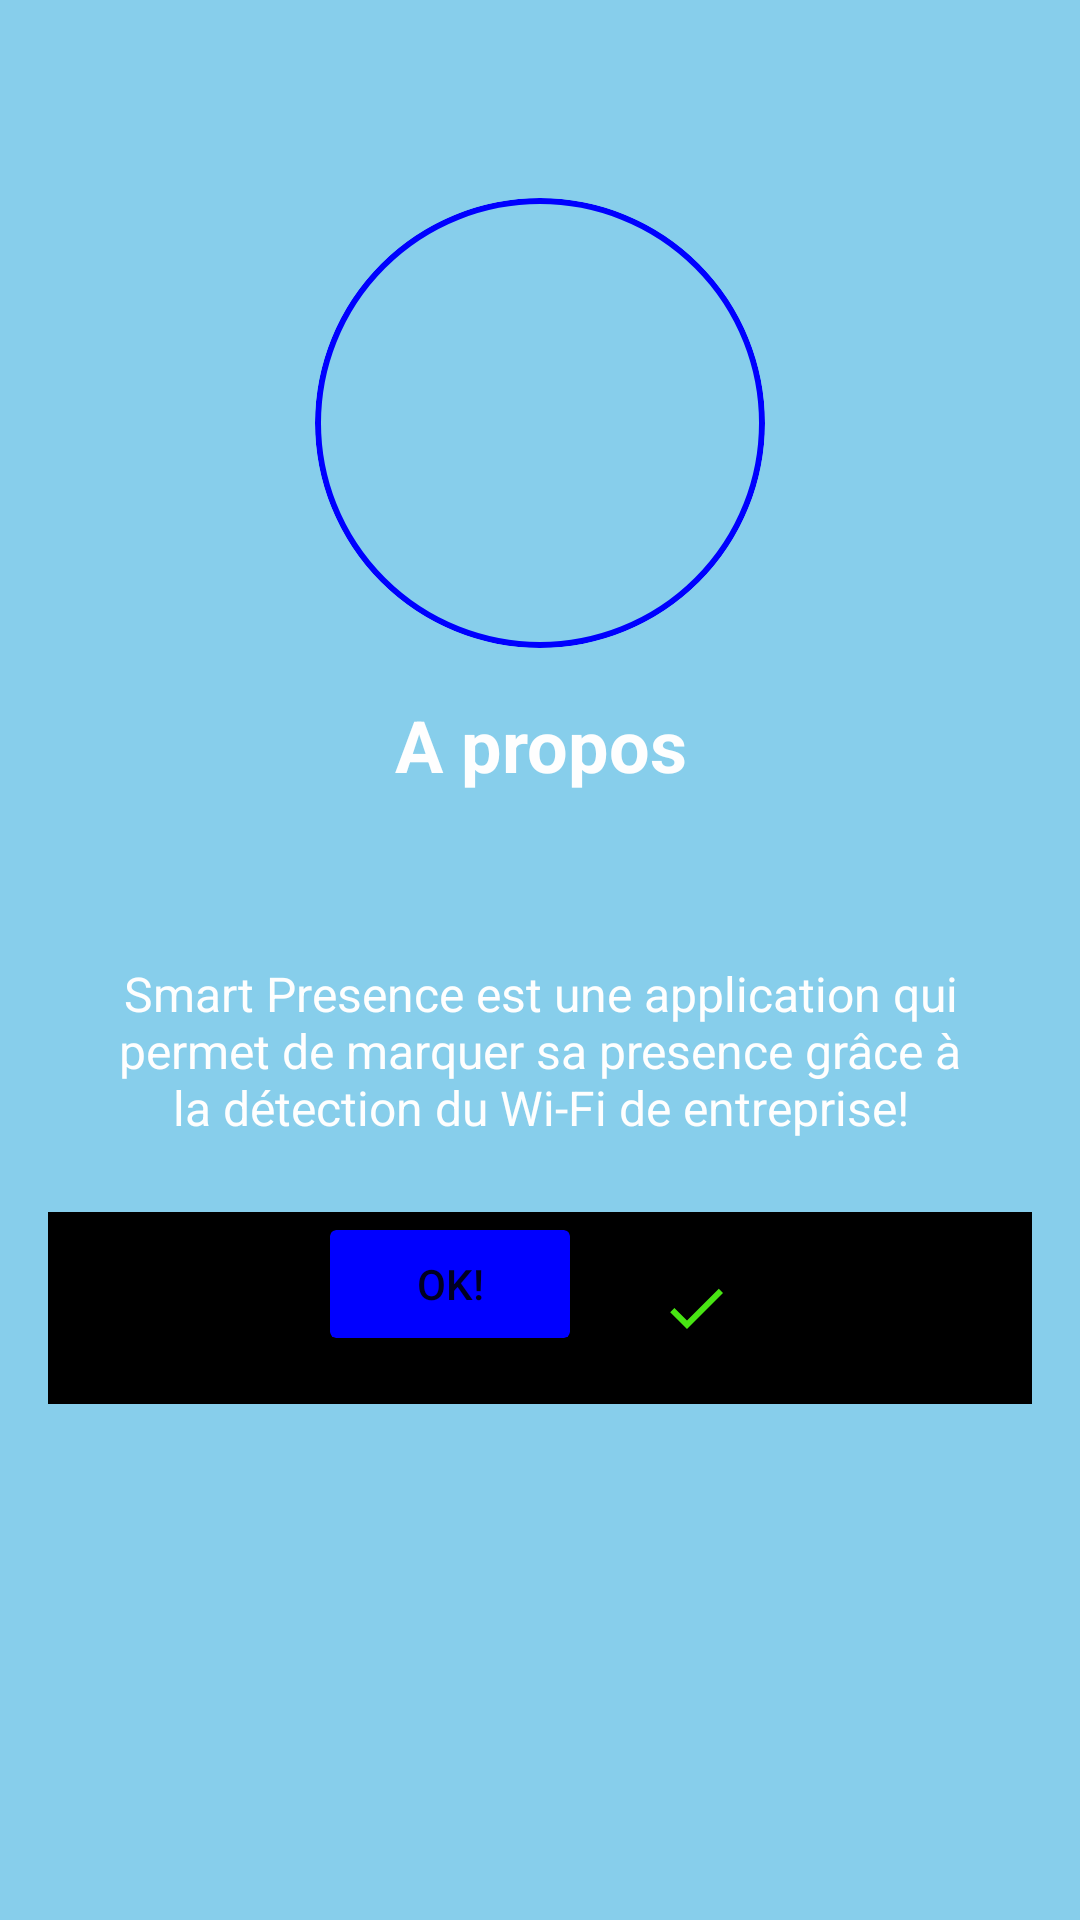

Icons on this 1080px x 1920px Android screen, each with the point to tap as [x,y]:
done: [696,1309]
